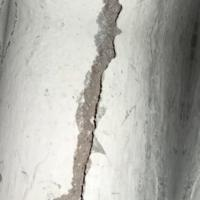crack: (65, 1, 139, 199)
